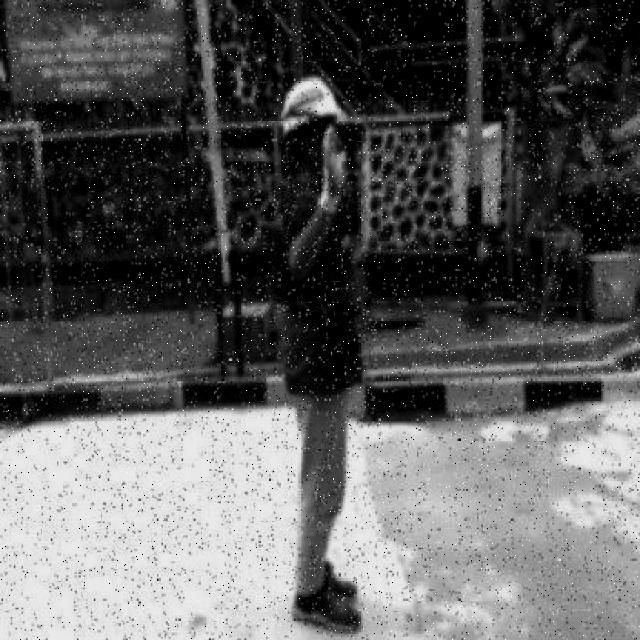Boots: (294, 590, 364, 636), (318, 560, 358, 608)
Gloves: (320, 121, 346, 222)
Helmet: (278, 75, 347, 134)
Mask: (268, 210, 376, 344)
